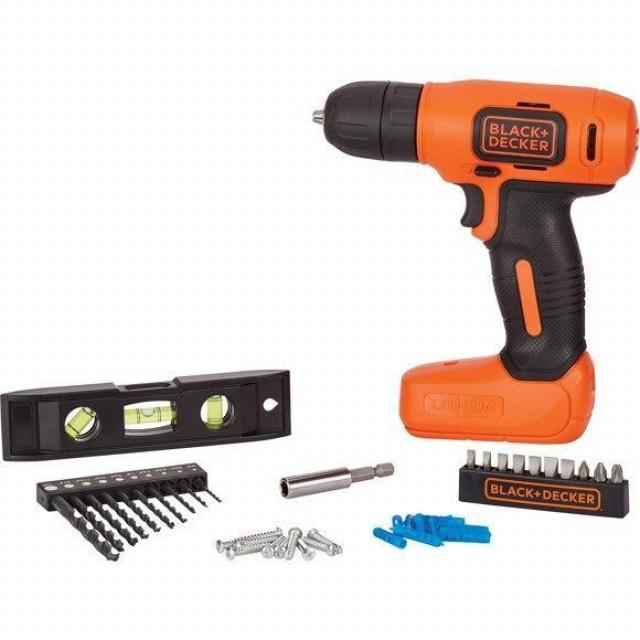drill: (313, 78, 640, 446)
